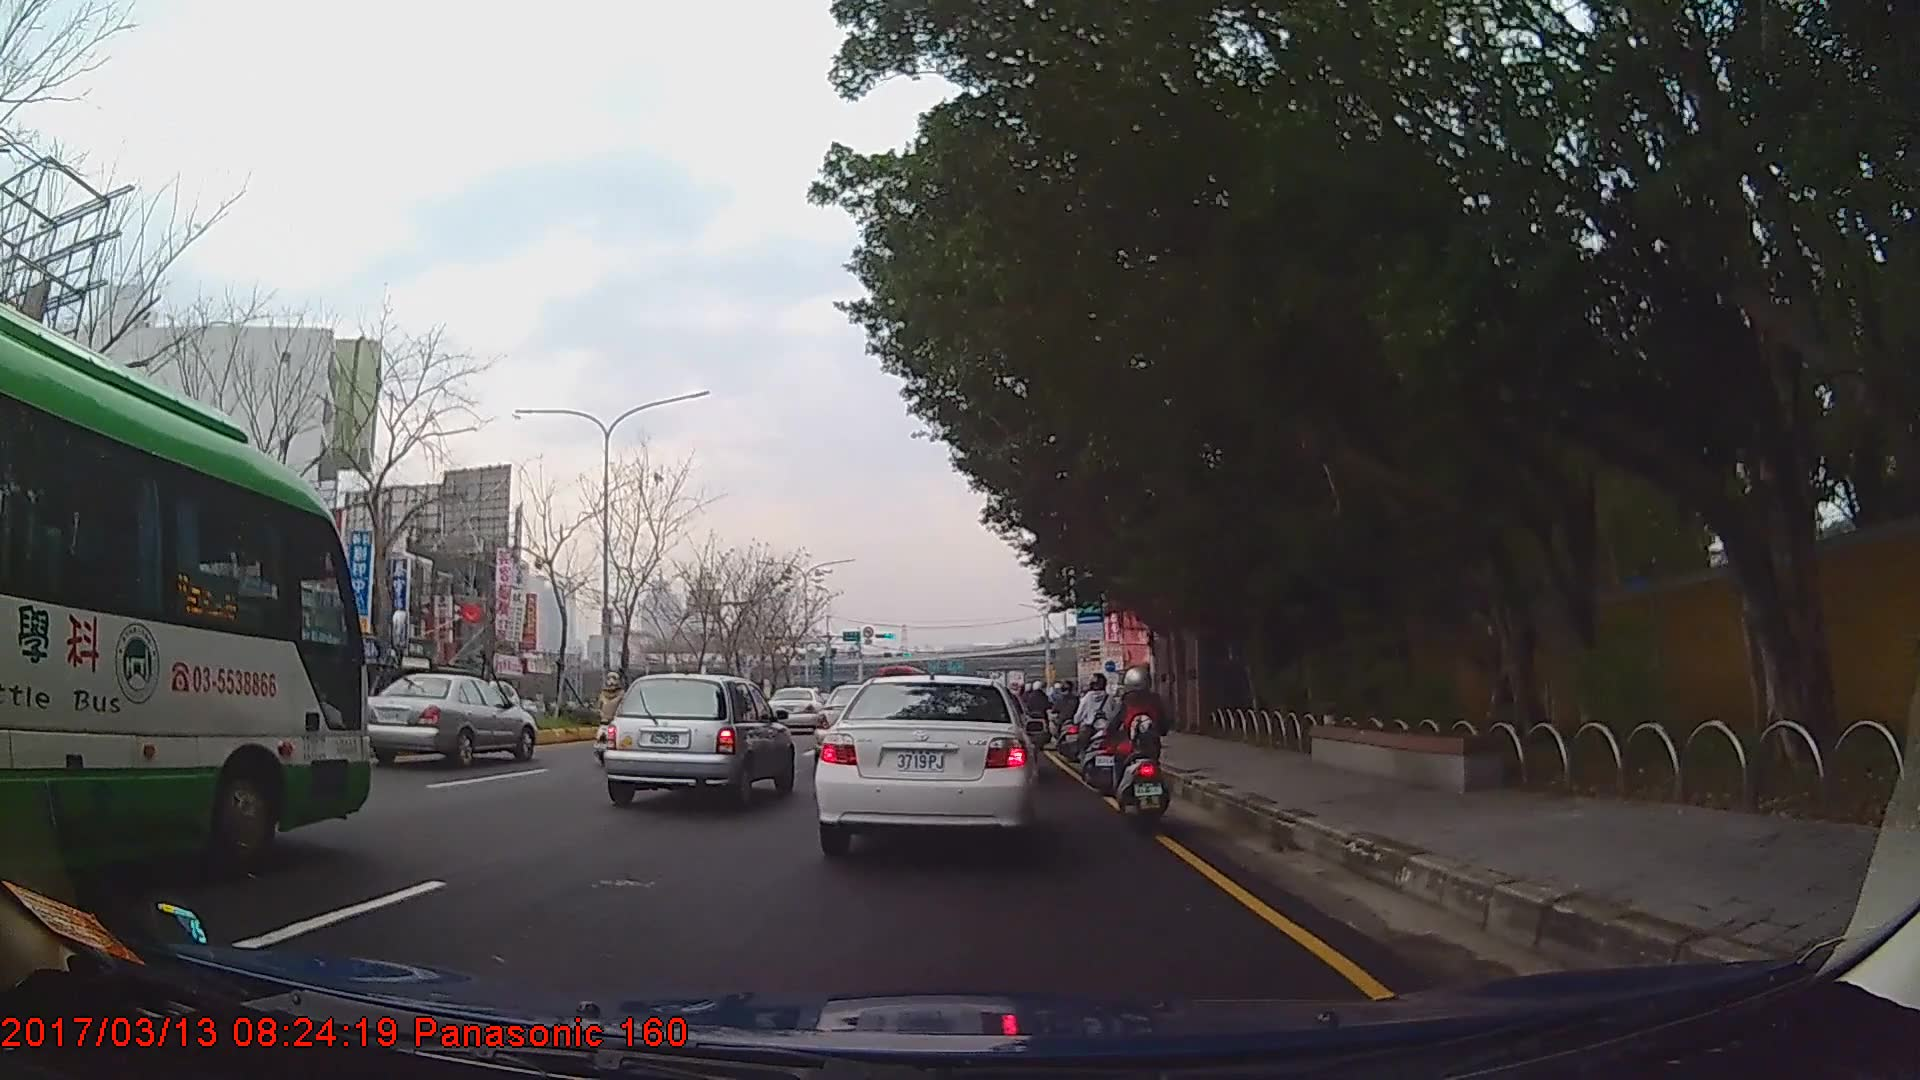rider: (1104, 661, 1164, 820), (1073, 673, 1125, 791), (597, 670, 632, 747), (1054, 681, 1081, 751)
vehicle: (0, 296, 373, 885), (814, 675, 1039, 852), (602, 672, 792, 808), (363, 672, 535, 766), (769, 682, 825, 726)
